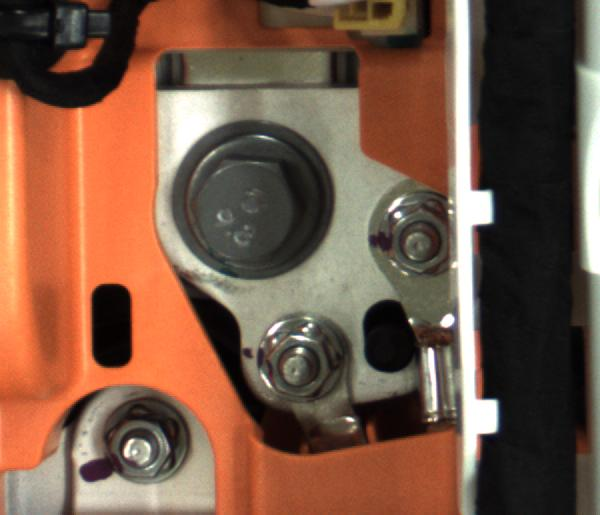nut_b: (161, 122, 334, 280)
screw_s: (250, 322, 350, 406), (99, 407, 196, 484), (370, 194, 456, 279)
